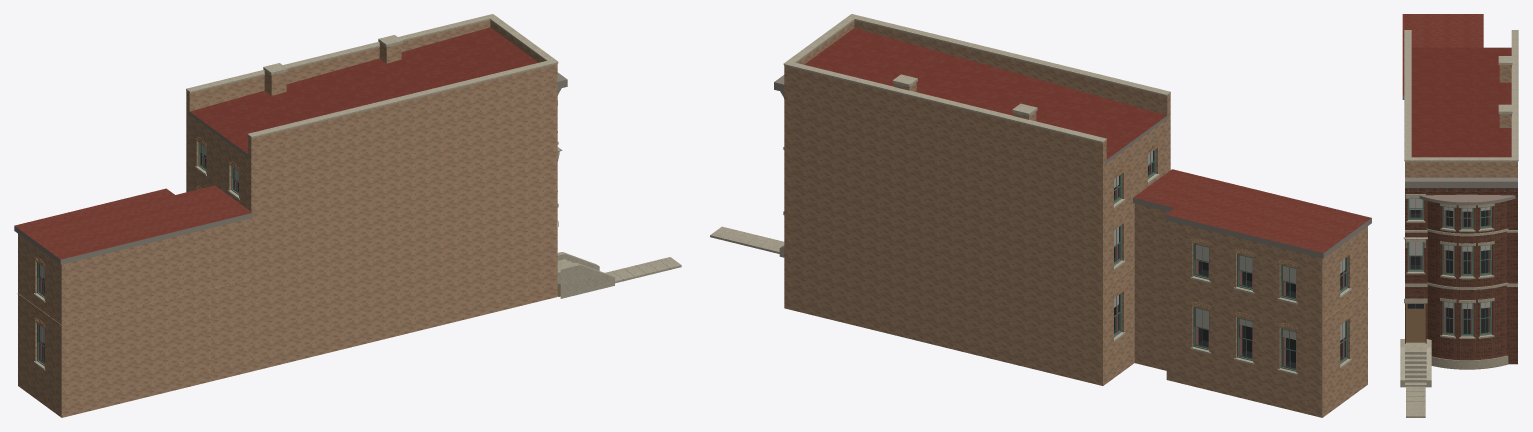
File: house_2003_prairie__as_mapped_1904.glb
The picture shows the model from 3 angles, left to right: view 1: azimuth 30°, elevation 25°; view 2: azimuth 150°, elevation 25°; view 3: azimuth 270°, elevation 25°; orthographic projection. The views are drawn at different scales.
Parts seen in each view (by area): view 1: house_2003_prairie__as_mapped_1904; view 2: house_2003_prairie__as_mapped_1904; view 3: house_2003_prairie__as_mapped_1904.
Boxes of the visible parts, bbox=[...] form: house_2003_prairie__as_mapped_1904: bbox=[14, 14, 681, 417]; house_2003_prairie__as_mapped_1904: bbox=[710, 14, 1371, 417]; house_2003_prairie__as_mapped_1904: bbox=[1400, 14, 1518, 417].
Size of the model in its own units: 37.9 by 14.09 by 7.19.
Materials: 22 (12 with a texture image).
